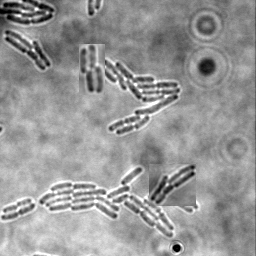Dividing: (1, 204, 37, 222), (3, 199, 33, 215)
Microcolony: (40, 167, 199, 238), (87, 59, 181, 136), (5, 30, 52, 72), (149, 164, 196, 206), (1, 1, 56, 26), (79, 44, 105, 95)
